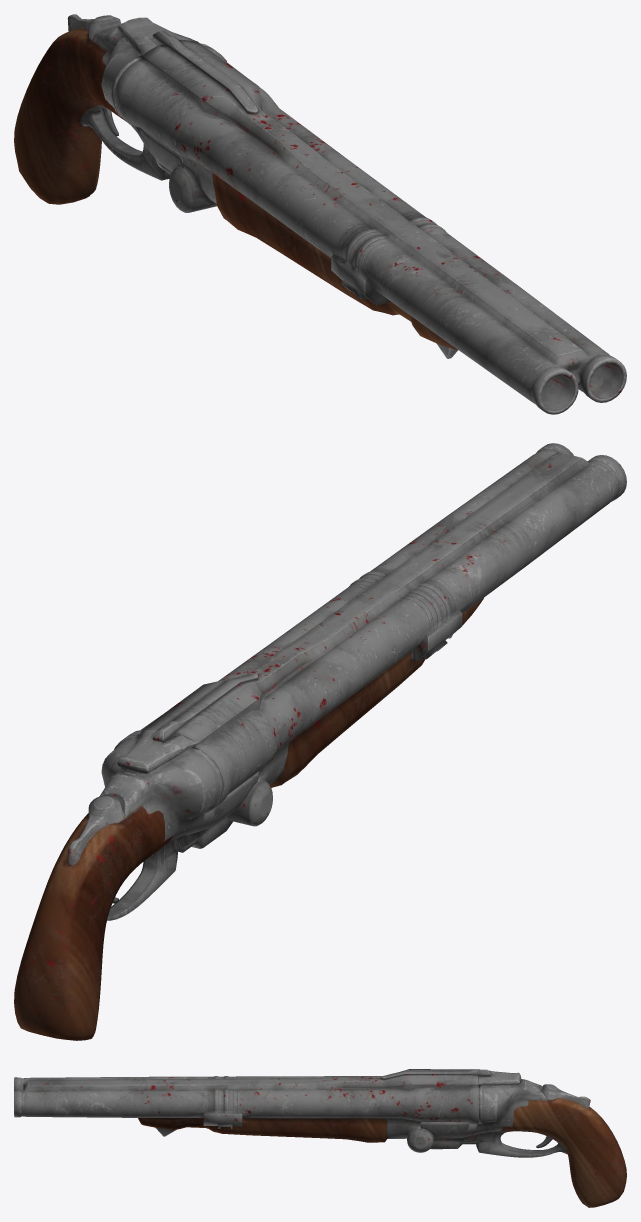
The model's file is supershotgun.glb.
3 views of the same model, one above another, from view 1: azimuth 30°, elevation 25°; view 2: azimuth 150°, elevation 25°; view 3: azimuth 270°, elevation 25° (orthographic). The views are drawn at different scales.
Parts seen in each view (by area): view 1: Front_low; view 2: Front_low; view 3: Front_low.
Boxes of the visible parts, x1,y1,x2,y2 form: Front_low: (14,14,626,414); Front_low: (14,443,626,1040); Front_low: (14,1069,626,1207).
Bounding box in the file's own units: 103 × 212 × 887.
Materials: 1 (1 with a texture image).
